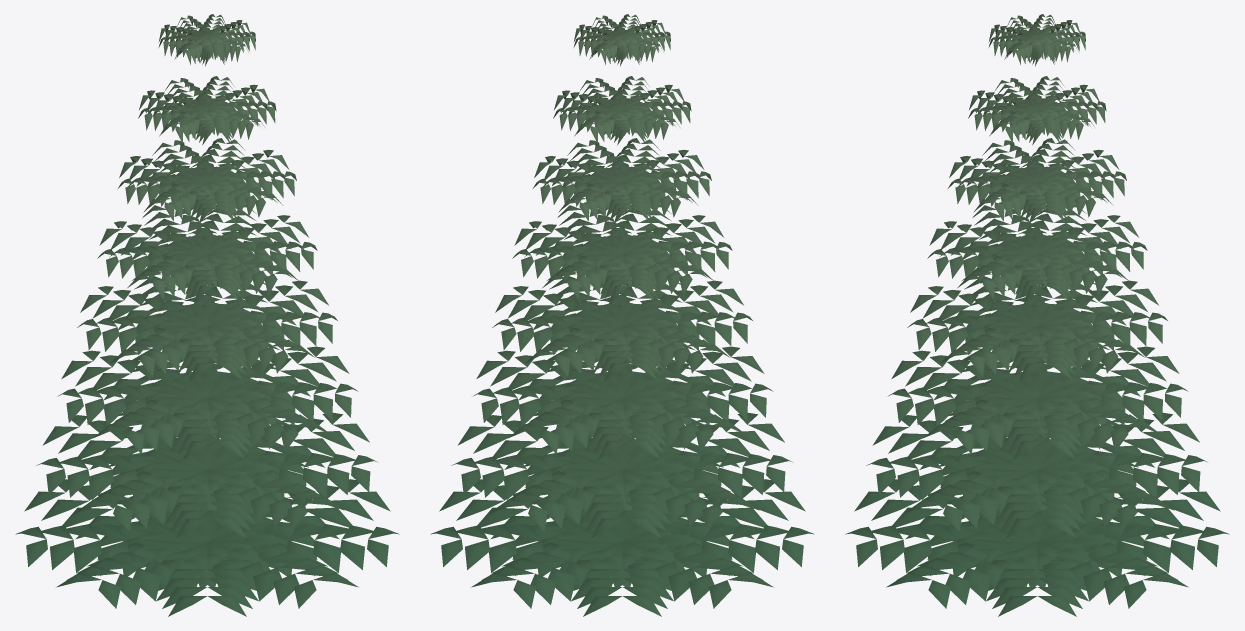
Rendered from SM_ConiferCanopy.fbx.
3 views of the same model, side by side, from view 1: azimuth 30°, elevation 25°; view 2: azimuth 150°, elevation 25°; view 3: azimuth 270°, elevation 25° (orthographic).
Visible parts, largest first — view 1: SM_ConiferCanopy; view 2: SM_ConiferCanopy; view 3: SM_ConiferCanopy.
Part boxes in pixels (bbox=[...]): SM_ConiferCanopy: bbox=[15, 14, 399, 616]; SM_ConiferCanopy: bbox=[430, 14, 814, 616]; SM_ConiferCanopy: bbox=[845, 14, 1229, 616].
Size of the model in its own units: 838 by 851 by 1256.
